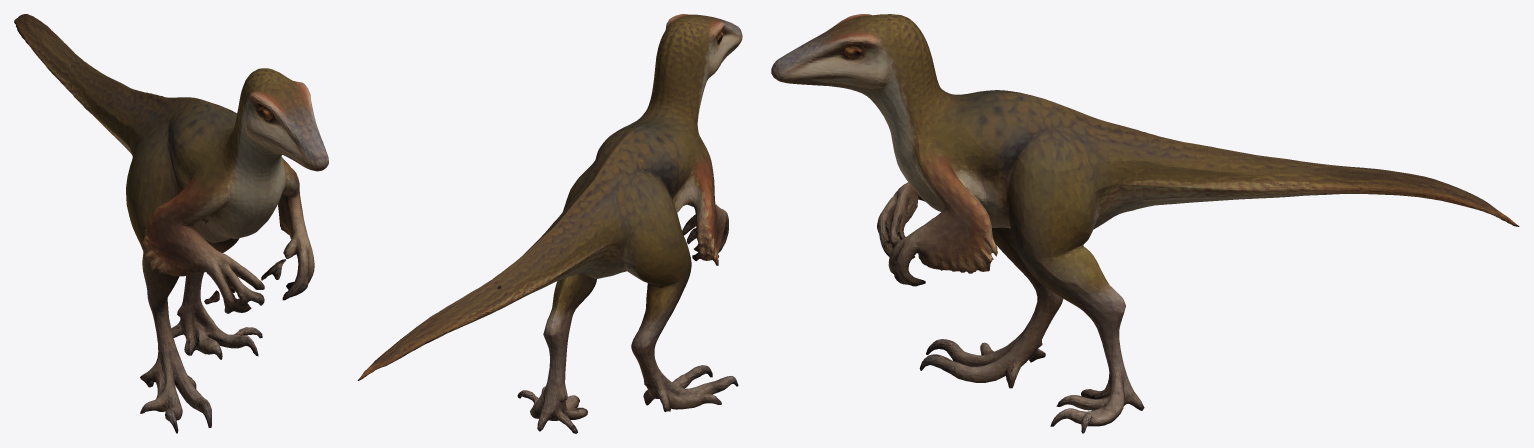
3 views of the same model, side by side, from view 1: azimuth 30°, elevation 25°; view 2: azimuth 150°, elevation 25°; view 3: azimuth 270°, elevation 25° (orthographic). The views are drawn at different scales.
Visible parts, largest first — view 1: world; view 2: world; view 3: world.
Boxes of the visible parts, x1,y1,x2,y2 form: world: (14,14,328,433); world: (357,14,742,433); world: (771,14,1519,433).
Size of the model in its own units: 0.276 by 0.5609 by 0.9977.
Materials: 1 (1 with a texture image).
